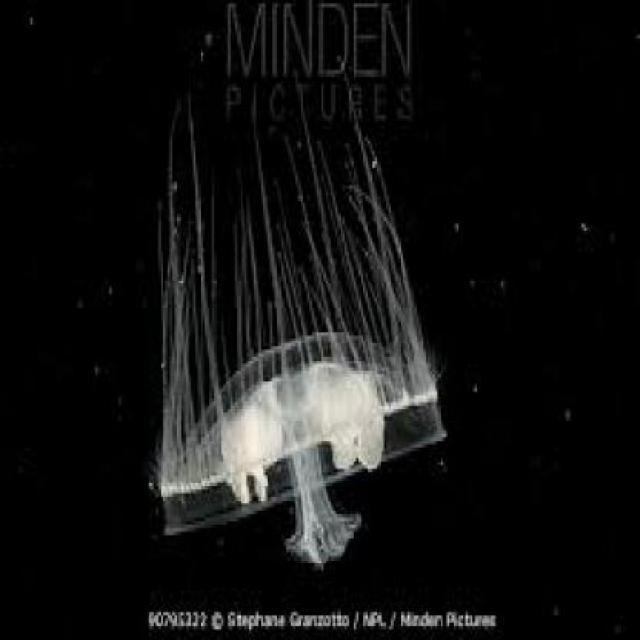Jellyfish: (134, 98, 448, 570)
